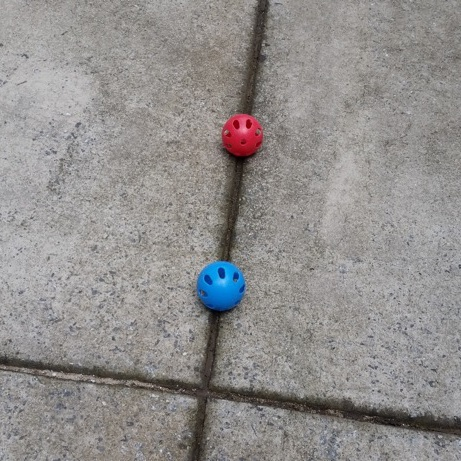blueball: (193, 258, 248, 312)
redball: (218, 110, 266, 159)
